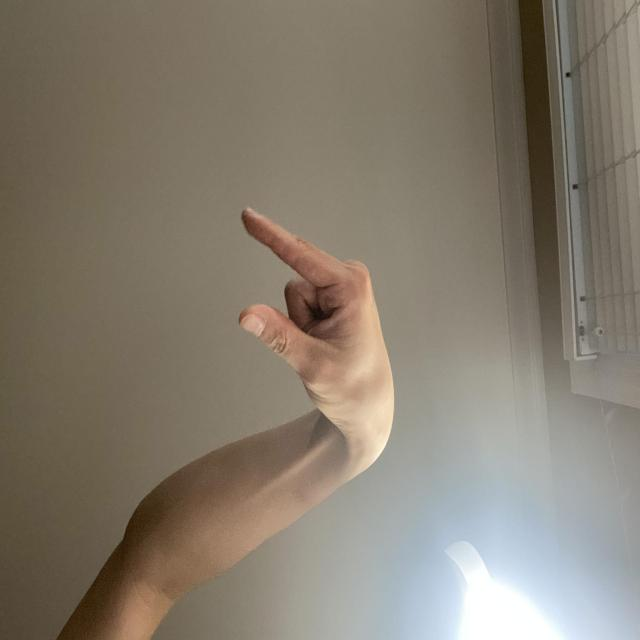Q: (311, 321, 517, 541)
